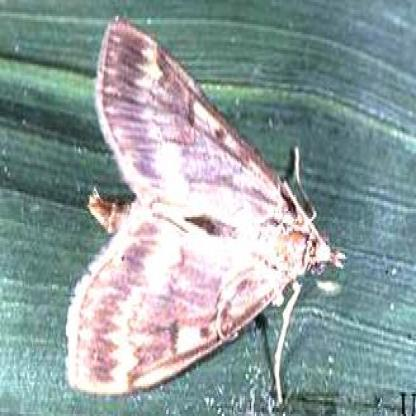stem-borer: (65, 13, 348, 398)
